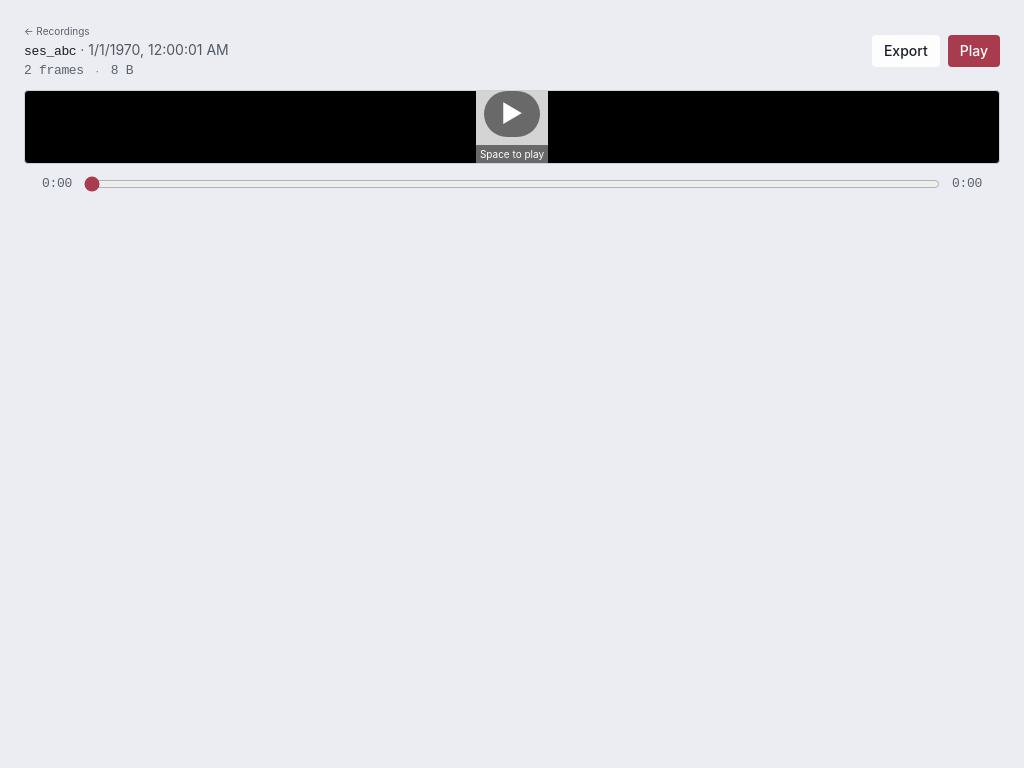
it: RecordingPlayerView — Space play/pause keyboard control › shows an Export FAILED toast (not a lying success) when the write does NOT land
Click the button "Export" at x=906, y=51, box top-left (872, 35), bottom-right (940, 67)
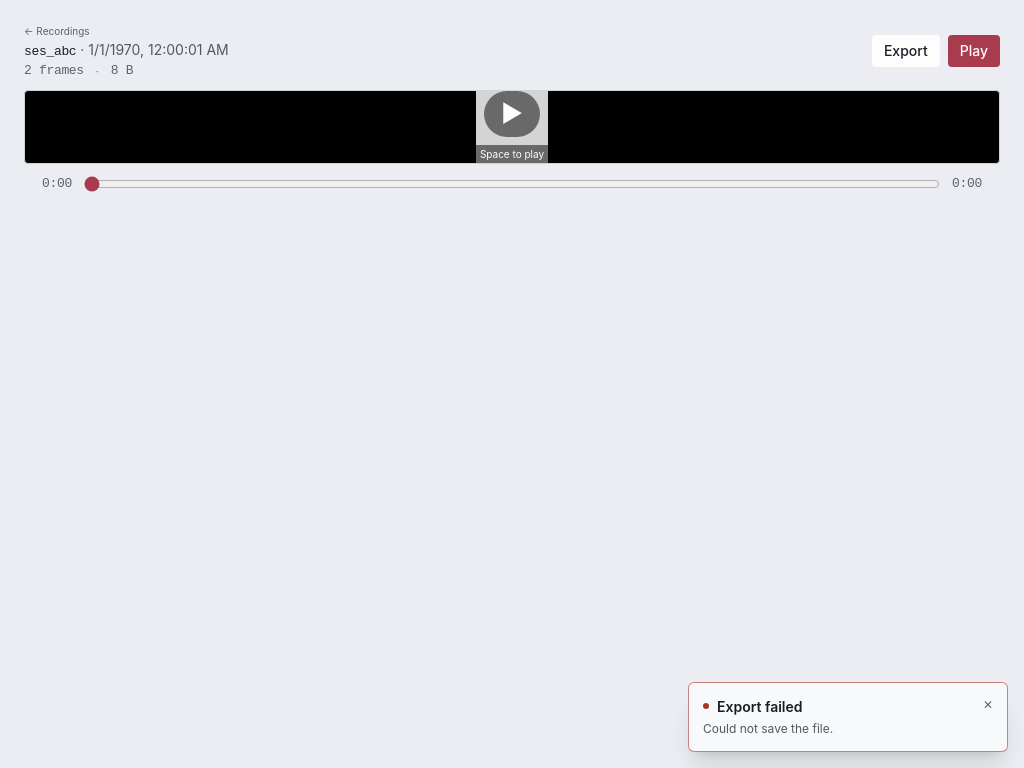
Check: the text "Export failed" is shown, box top-left (717, 698), bottom-right (803, 715)
